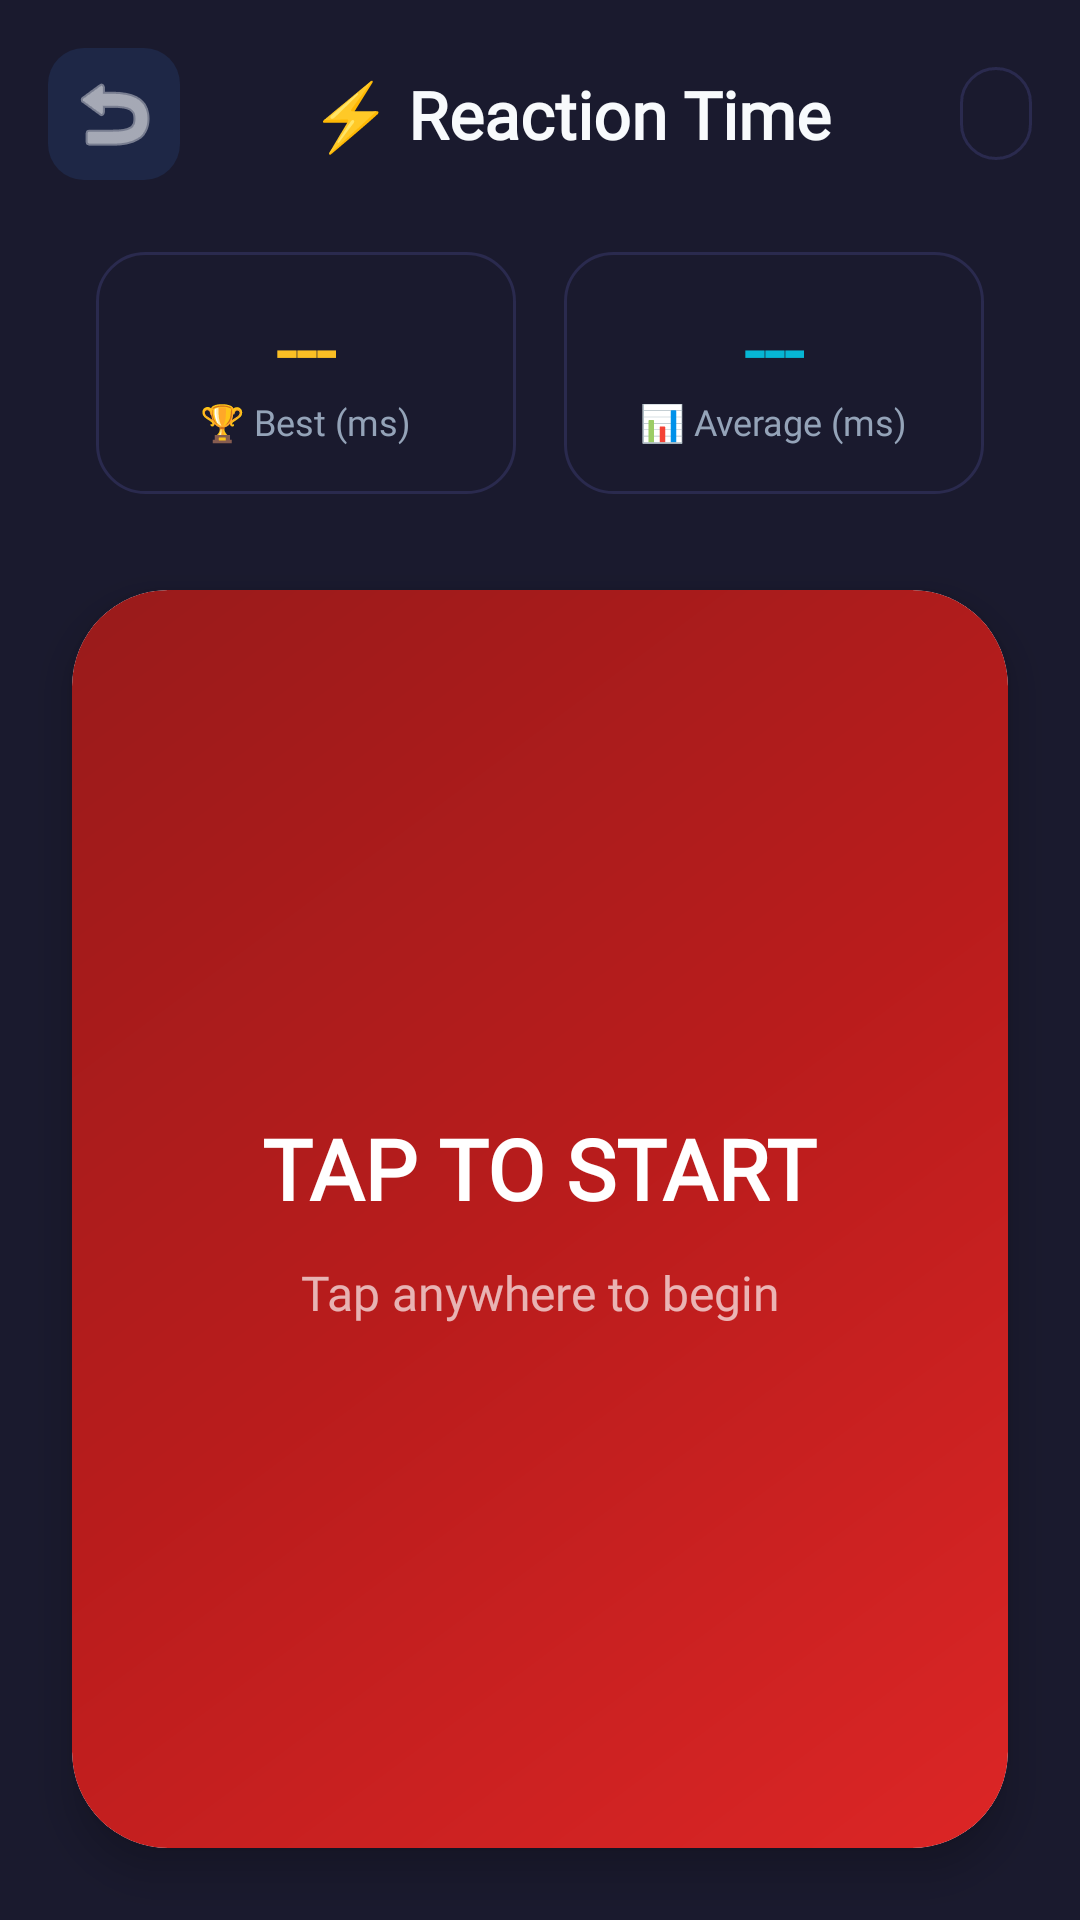

Where icons sit on this 1080w x 1920h app screen, as {"x1": x1, "y1": y1, "x2": x2, "y2": y2}:
Back: {"x1": 80, "y1": 83, "x2": 150, "y2": 146}
